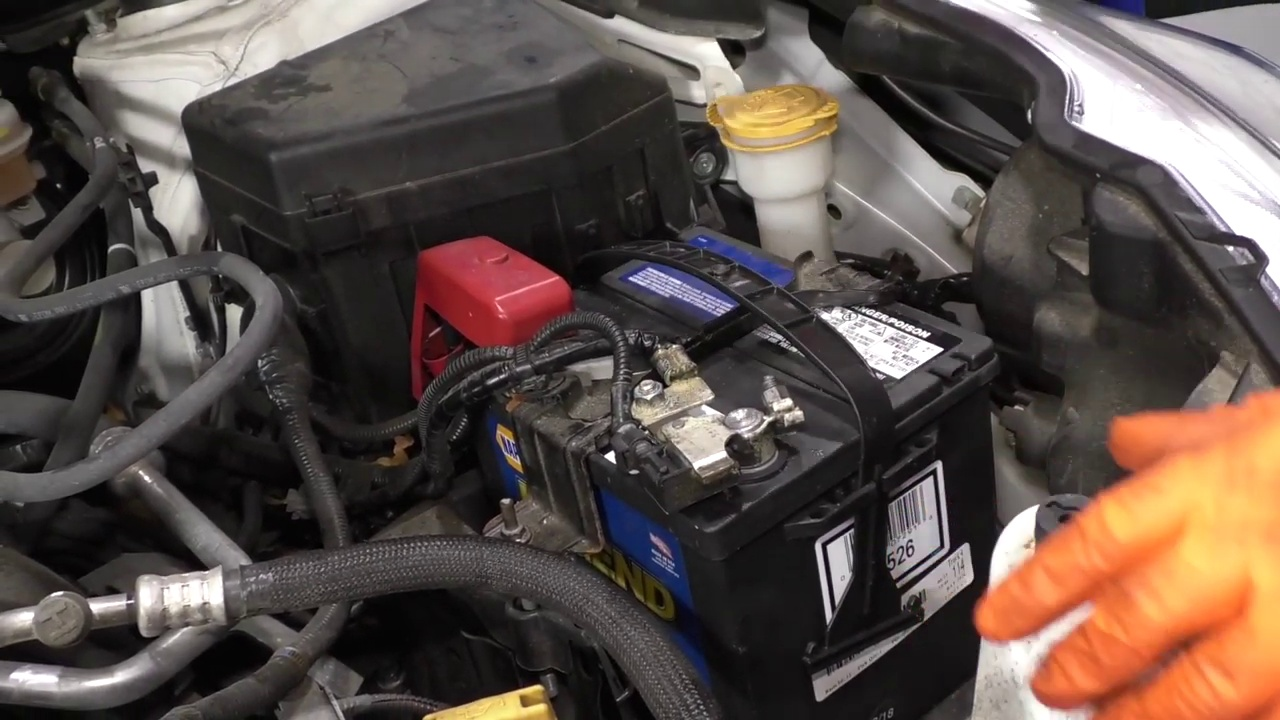battery: (434, 217, 994, 544)
neg_connected: (648, 367, 816, 508)
pos_connected: (408, 224, 567, 402)
